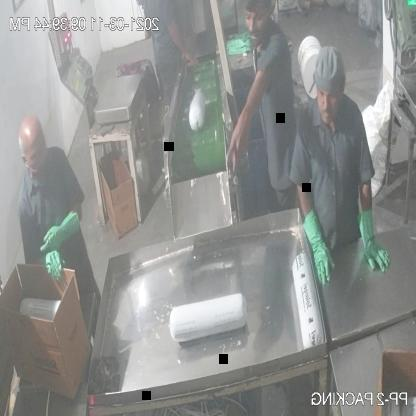glove: (297, 206, 333, 289), (355, 207, 390, 279), (42, 209, 86, 256)
no_glove: (218, 66, 275, 182), (165, 18, 198, 69)
